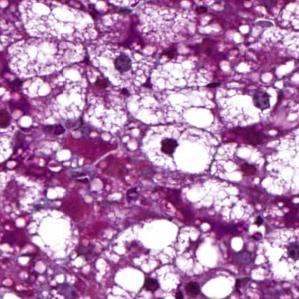ballooning: (105, 218, 225, 283), (139, 121, 220, 177), (215, 79, 281, 131), (83, 44, 155, 90)
